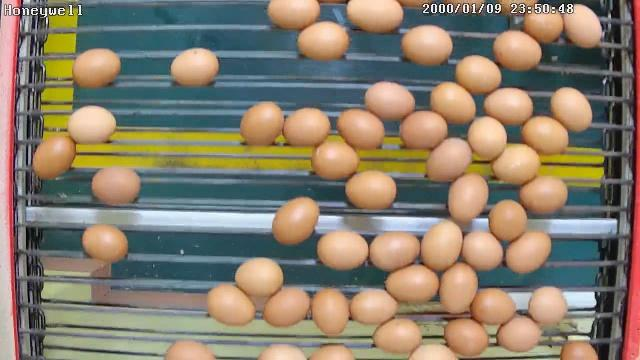egg: (270, 195, 320, 248), (296, 18, 350, 64), (343, 168, 398, 213), (204, 282, 257, 328), (316, 228, 370, 273), (399, 22, 454, 66), (418, 220, 464, 272), (368, 228, 422, 272), (490, 140, 541, 186), (397, 108, 449, 153), (447, 170, 490, 224), (385, 262, 440, 304), (424, 136, 472, 184), (30, 131, 76, 181), (310, 136, 360, 182), (504, 228, 554, 274), (363, 80, 416, 123), (232, 257, 286, 299), (436, 262, 478, 316), (238, 100, 284, 149), (492, 29, 542, 74), (70, 47, 122, 90), (90, 165, 142, 208), (262, 284, 310, 330), (336, 108, 386, 152), (520, 114, 570, 158), (168, 46, 220, 88), (66, 104, 118, 146), (429, 80, 476, 126), (518, 174, 569, 216), (482, 87, 534, 128), (370, 316, 424, 355), (80, 223, 130, 265), (282, 106, 332, 148), (344, 0, 404, 35), (310, 285, 350, 337), (348, 286, 400, 326), (550, 86, 594, 133), (454, 54, 502, 96), (442, 315, 490, 357), (468, 286, 518, 326), (562, 2, 602, 50), (494, 312, 542, 352), (264, 0, 322, 33), (522, 2, 564, 46), (462, 229, 504, 272), (527, 285, 570, 327), (488, 198, 528, 243), (468, 116, 508, 160)
